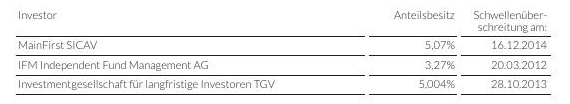table: (0, 0, 570, 104)
